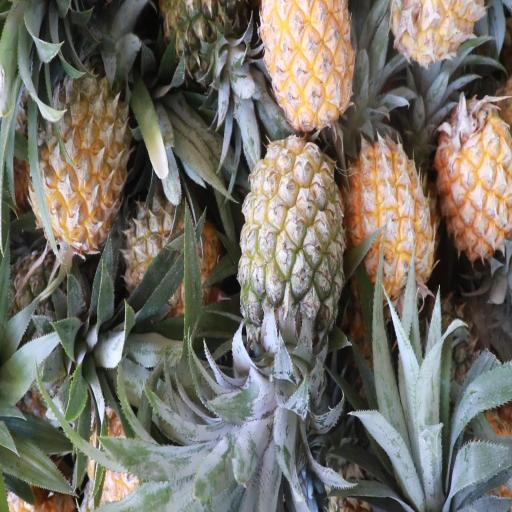------------------------------: (238, 139, 343, 358), (125, 190, 220, 324)
Pineapple - v8 v1: (38, 71, 133, 245), (353, 136, 436, 293), (438, 98, 512, 260), (263, 0, 358, 126)
